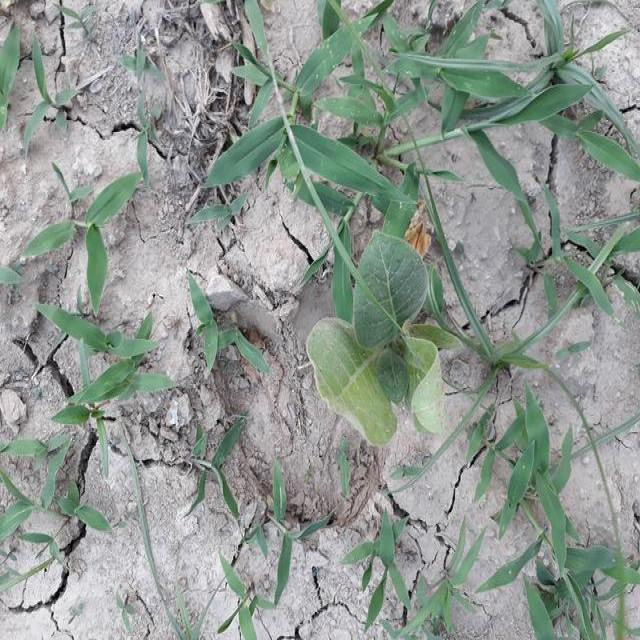crop: (302, 220, 458, 439)
